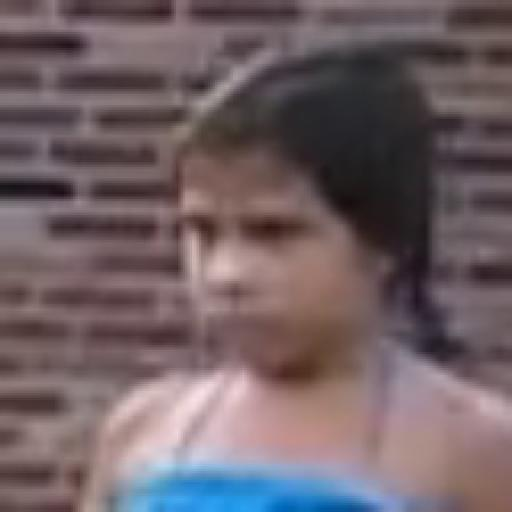Autism: (163, 80, 446, 468)
